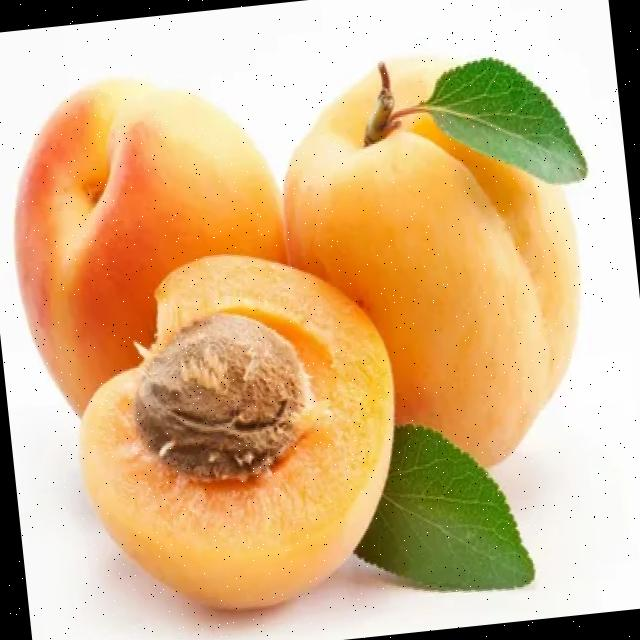Cekirdek: (134, 314, 309, 478)
Kayisi: (13, 79, 285, 412)
Yaprak: (354, 429, 533, 589)
